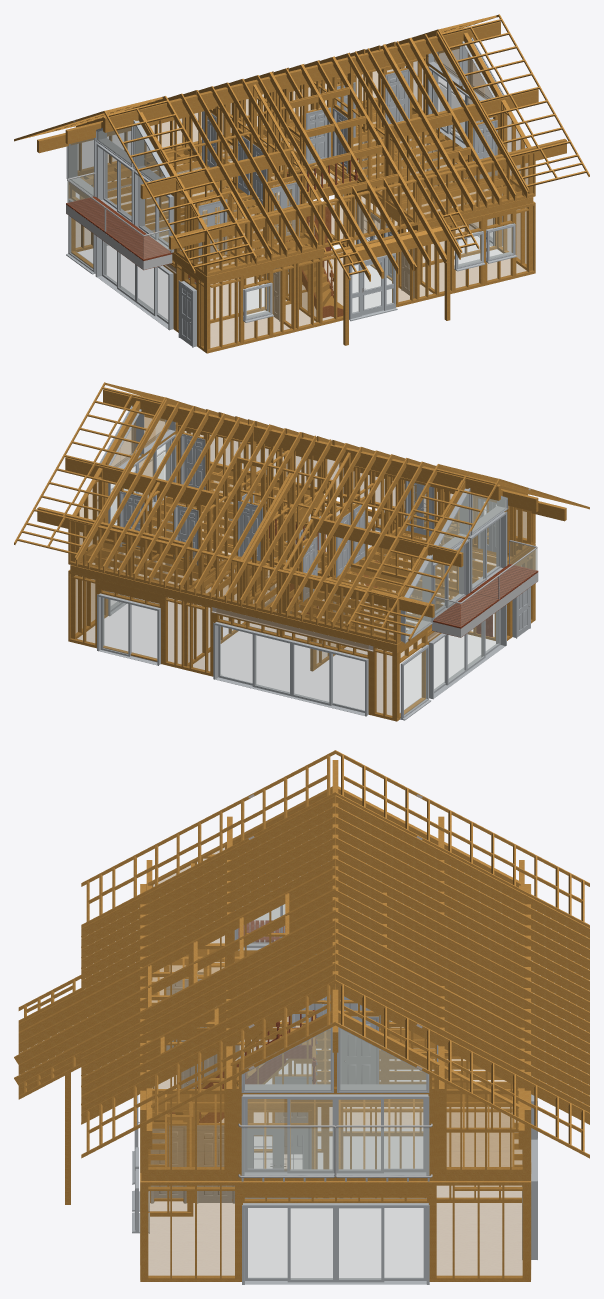
Rendered from house-timber-frame-framing.glb.
3 views of the same model, one above another, from view 1: azimuth 30°, elevation 25°; view 2: azimuth 150°, elevation 25°; view 3: azimuth 270°, elevation 25° (orthographic). The views are drawn at different scales.
Visible parts, largest first — view 1: Object_16, Object_17, Object_9, Object_8, Object_7, Object_6, Object_15, Object_14, Object_2; view 2: Object_16, Object_17, Object_8, Object_9, Object_7, Object_12, Object_6, Object_2; view 3: Object_16, Object_17, Object_8, Object_9, Object_2, Object_15.
Part boxes in pixels (x1=…): Object_16: x1=14, y1=14, x2=589, y2=353; Object_17: x1=76, y1=38, x2=535, y2=351; Object_9: x1=66, y1=37, x2=516, y2=347; Object_8: x1=67, y1=47, x2=512, y2=320; Object_7: x1=66, y1=196, x2=172, y2=270; Object_6: x1=66, y1=204, x2=172, y2=269; Object_15: x1=278, y1=158, x2=357, y2=317; Object_14: x1=278, y1=165, x2=343, y2=308; Object_2: x1=67, y1=82, x2=490, y2=252; Object_16: x1=14, y1=382, x2=589, y2=721; Object_17: x1=68, y1=406, x2=534, y2=719; Object_8: x1=97, y1=419, x2=537, y2=715; Object_9: x1=97, y1=405, x2=530, y2=720; Object_7: x1=432, y1=564, x2=538, y2=637; Object_12: x1=212, y1=607, x2=439, y2=651; Object_6: x1=432, y1=572, x2=538, y2=637; Object_2: x1=97, y1=450, x2=537, y2=620; Object_16: x1=14, y1=750, x2=589, y2=1281; Object_17: x1=140, y1=847, x2=531, y2=1279; Object_8: x1=238, y1=904, x2=429, y2=1278; Object_9: x1=132, y1=807, x2=537, y2=1284; Object_2: x1=238, y1=1123, x2=432, y2=1181; Object_15: x1=172, y1=1010, x2=316, y2=1122.
Size of the model in its own units: 51.15 by 24.74 by 45.7.
Materials: 12 (7 with a texture image).
